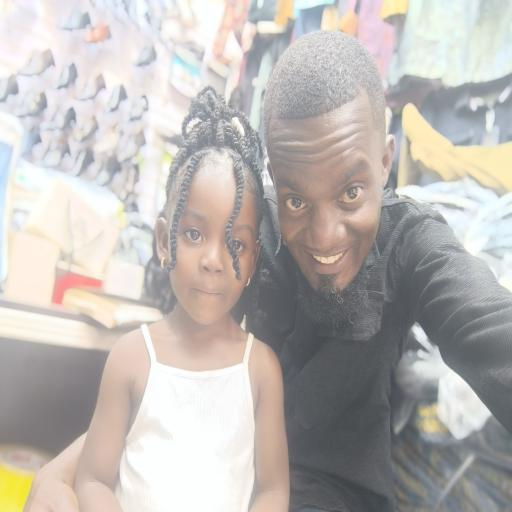MATTHIEU: (265, 28, 407, 312)
